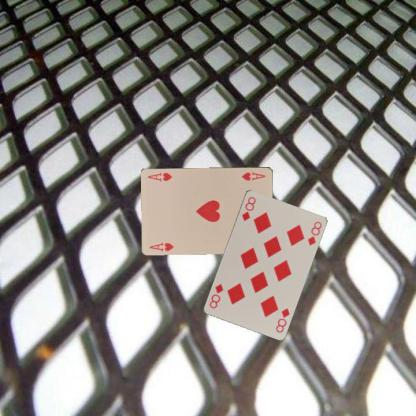8d: (239, 193, 257, 222), (273, 305, 291, 333)
Ah: (147, 239, 175, 253), (239, 169, 267, 182)
